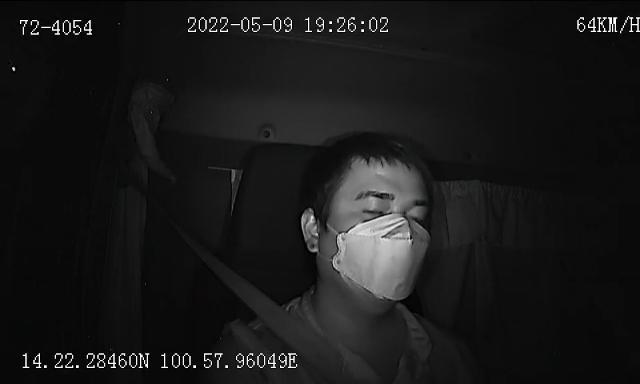SafeDriving: (355, 186, 397, 205)
Seatbelt: (205, 254, 353, 384)
